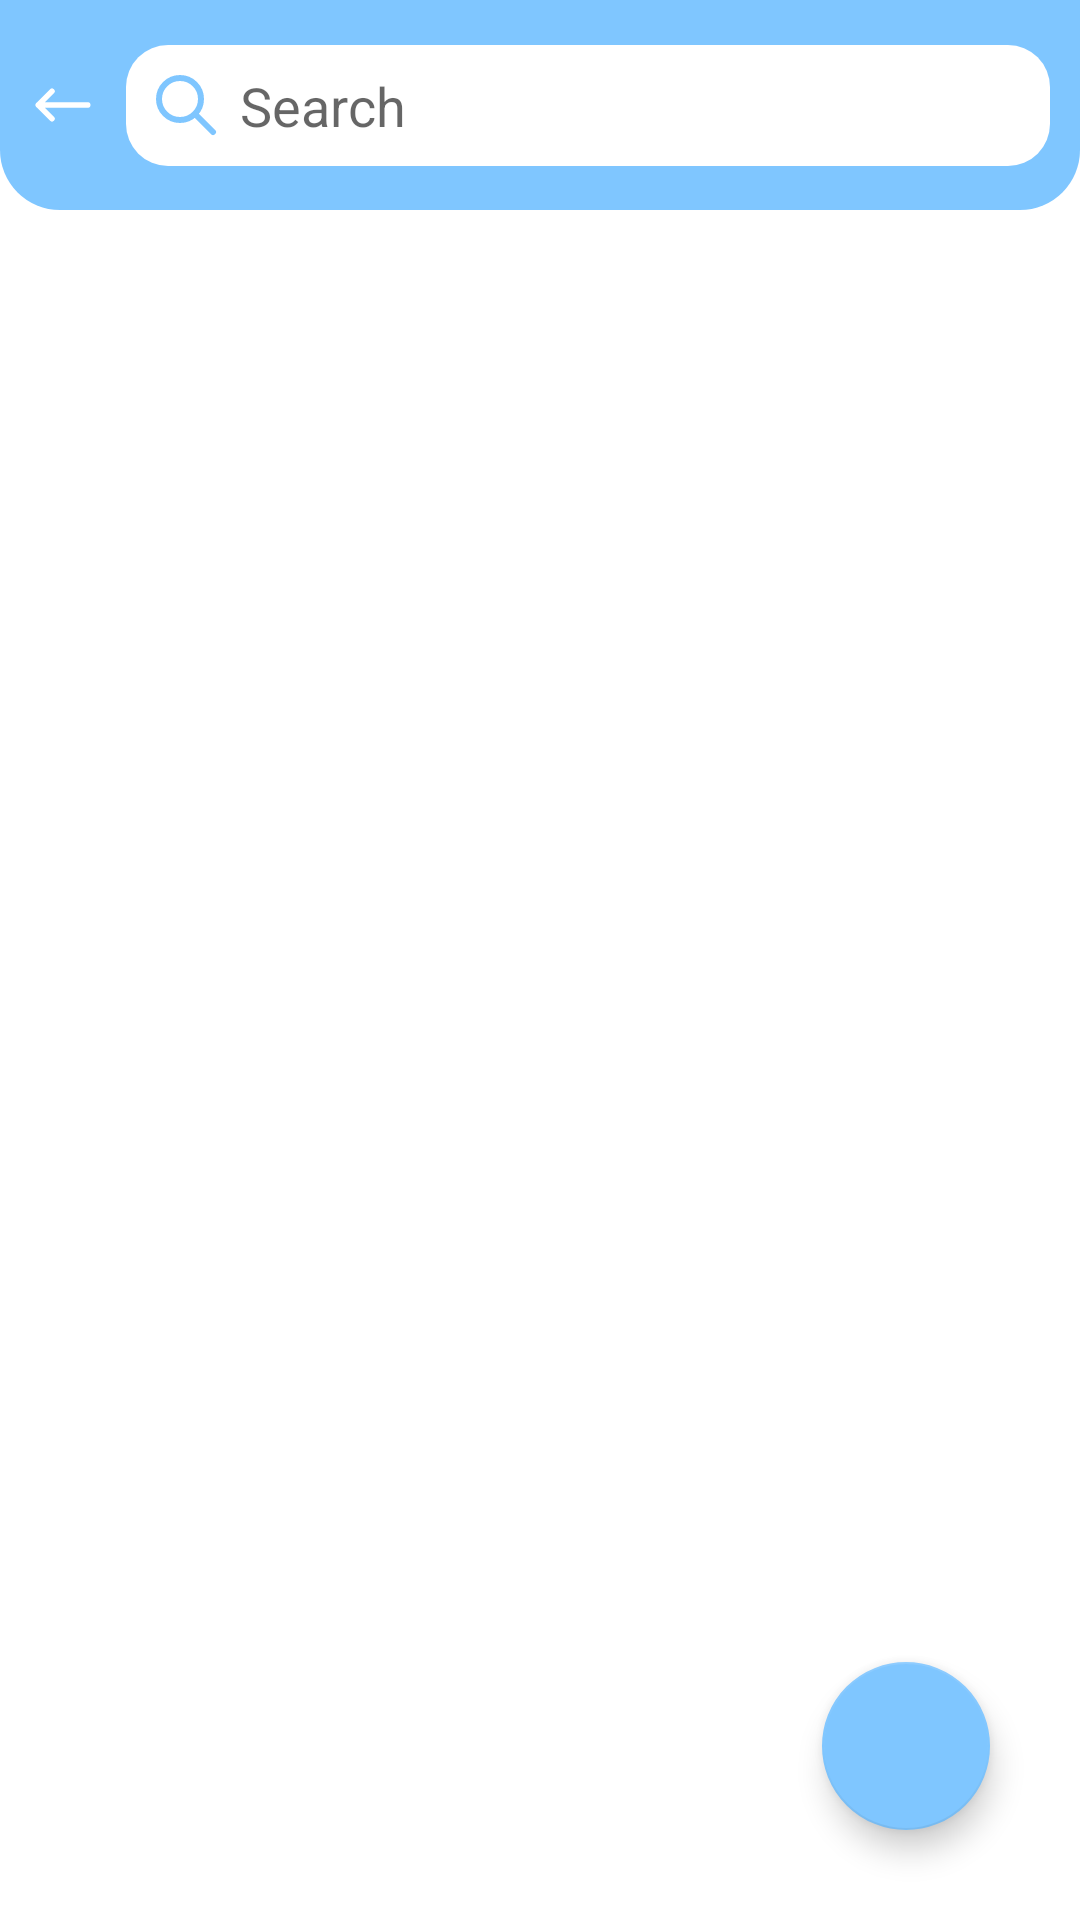

Screen size 1080x1920. Icon name, then its center in pixels as (x=x, y=y):
Exit: (x=63, y=105)
